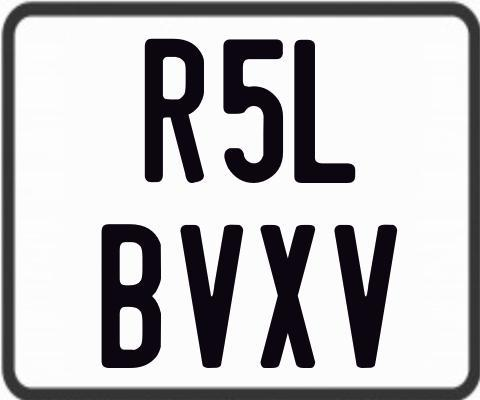5: (220, 36, 280, 184)
B: (99, 221, 162, 369)
L: (294, 39, 361, 183)
R: (143, 37, 208, 182)
V: (178, 224, 244, 369), (331, 223, 395, 371)
X: (257, 225, 316, 373)
